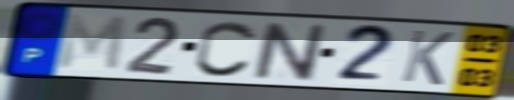2: (331, 23, 400, 89), (124, 15, 183, 78)
C: (192, 18, 261, 79)
K: (398, 27, 457, 88)
M: (55, 12, 130, 74)
N: (252, 20, 328, 83)
